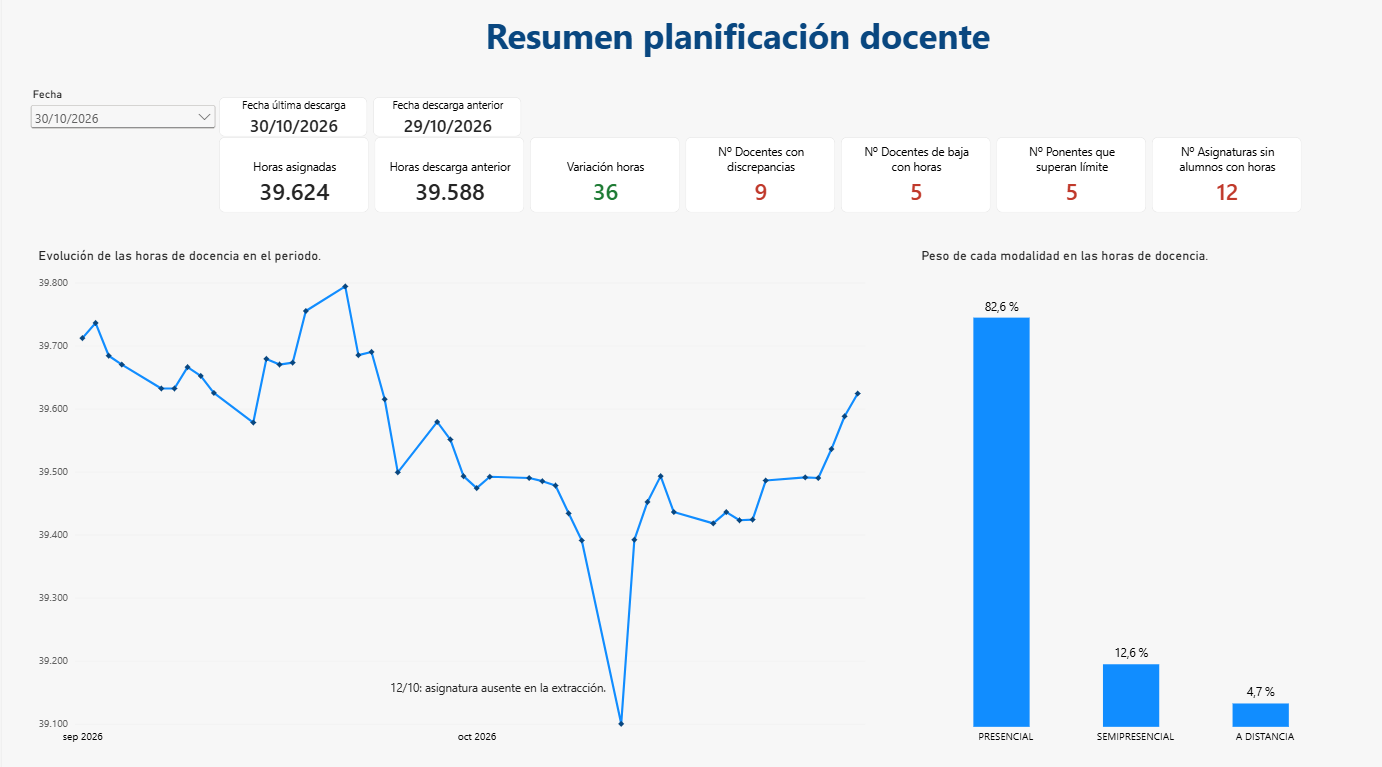

The page's visual inventory and layout, read from the dashboard file:
{"tool":"powerbi","page":{"name":"Resumen","canvas":[1920,1080],"ordinal":0},"visuals":[{"type":"lineChart","title":"Evolución de las horas de docencia en el periodo.","fields":{"Category":["Calendario.Fecha"],"Y":["Medidas.Horas asignadas"]},"box":[35,331.3,1197.2,723.1],"z":0},{"type":"textbox","box":[599.3,16.2,847,84.8],"z":1000},{"type":"cardVisual","fields":{"Data":["Medidas.Horas asignadas","Medidas.Horas descarga anterior","Medidas.Variación horas","Medidas.Nº Docentes con discrepancias","Medidas.Nº Personal de baja con horas","Medidas.Nº Ponentes superan límite","Medidas.Nº Asignaturas sin alumnos con horas"]},"box":[301.6,189.9,1506.9,105],"z":2000},{"type":"clusteredColumnChart","title":"Peso de cada modalidad en las horas de docencia.","fields":{"Category":["Planificación.MODALIDAD"],"Y":["Medidas.Porcentaje"]},"box":[1261.8,331.3,626.2,723.1],"z":3000},{"type":"cardVisual","fields":{"Data":["Medidas.Fecha última descarga","Medidas.Fecha descarga anterior"]},"box":[301.6,134.7,421.5,55.2],"z":4000},{"type":"slicer","fields":{"Values":["Calendario.Fecha"]},"box":[35,121.2,266.6,68.7],"z":5000},{"type":"textbox","box":[538.7,945.3,307,29.6],"z":6000}]}

Visuals, with their boxes in screenshot pixels (x1, y1, x2, y2), scaled from the page's 1920x1080 canvas onto the 1382x767 screenshot:
"Evolución de las horas de docencia en el periodo." lineChart: region(25, 235, 887, 749)
textbox: region(431, 12, 1041, 72)
cardVisual - Medidas.Horas asignadas x Medidas.Horas descarga anterior: region(217, 135, 1302, 209)
"Peso de cada modalidad en las horas de docencia." clusteredColumnChart: region(908, 235, 1359, 749)
cardVisual - Medidas.Fecha última descarga x Medidas.Fecha descarga anterior: region(217, 96, 520, 135)
slicer - Calendario.Fecha: region(25, 86, 217, 135)
textbox: region(388, 671, 609, 692)
